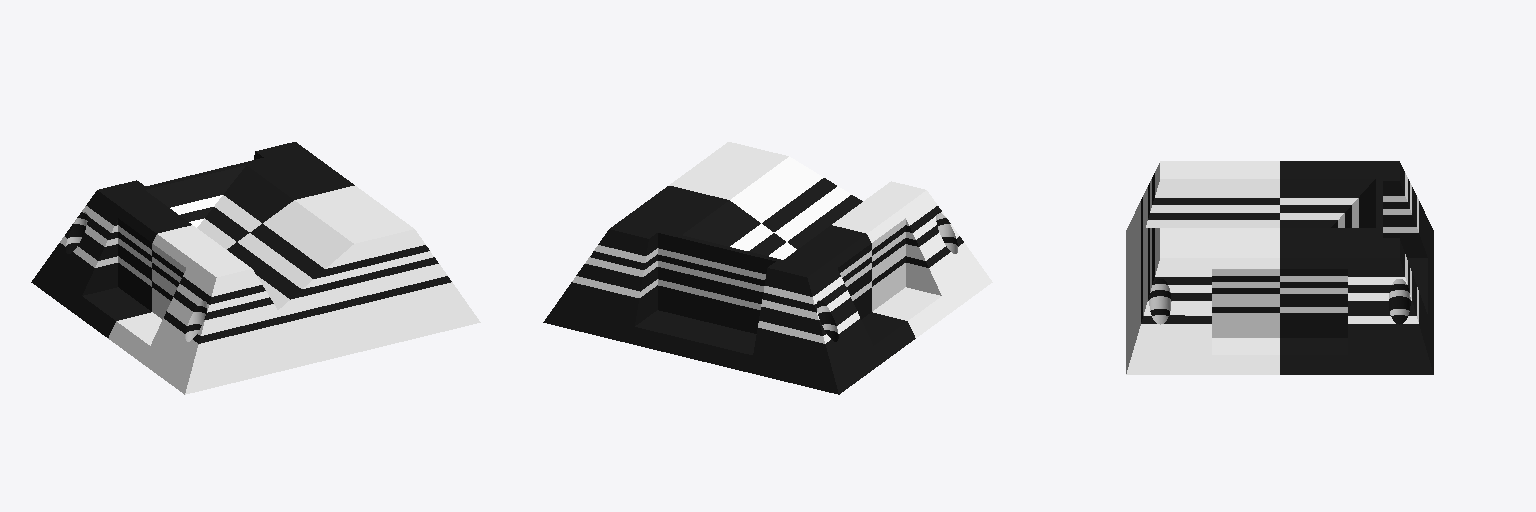
3 renders of one model, left to right at view 1: azimuth 30°, elevation 25°; view 2: azimuth 150°, elevation 25°; view 3: azimuth 270°, elevation 25°, orthographic.
Parts seen in each view (by area): view 1: bar-holder-kleeman2-stripes-bi-v2; view 2: bar-holder-kleeman2-stripes-bi-v2; view 3: bar-holder-kleeman2-stripes-bi-v2.
Boxes of the visible parts, box(x1,y1,x2,y2) form: bar-holder-kleeman2-stripes-bi-v2: box(31, 142, 480, 394); bar-holder-kleeman2-stripes-bi-v2: box(543, 142, 992, 394); bar-holder-kleeman2-stripes-bi-v2: box(1126, 161, 1433, 374).
Size of the model in its own units: 100 by 30 by 90.
Materials: 1 (1 with a texture image).